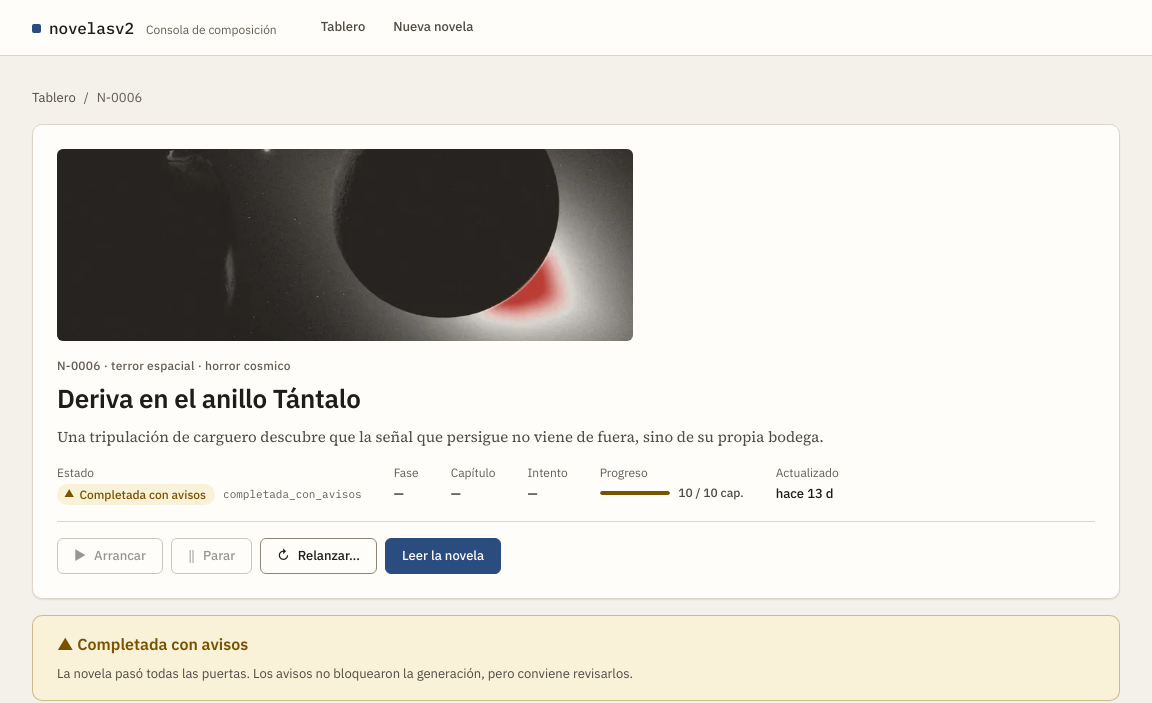
Test case: tablero de una novela (RF-FE-NOV) › relanzar pide desde qué capítulo, dice qué se rehace y encola la intención
Click the button "↻ Relanzar…" at (319, 556), box [260,538,377,574]
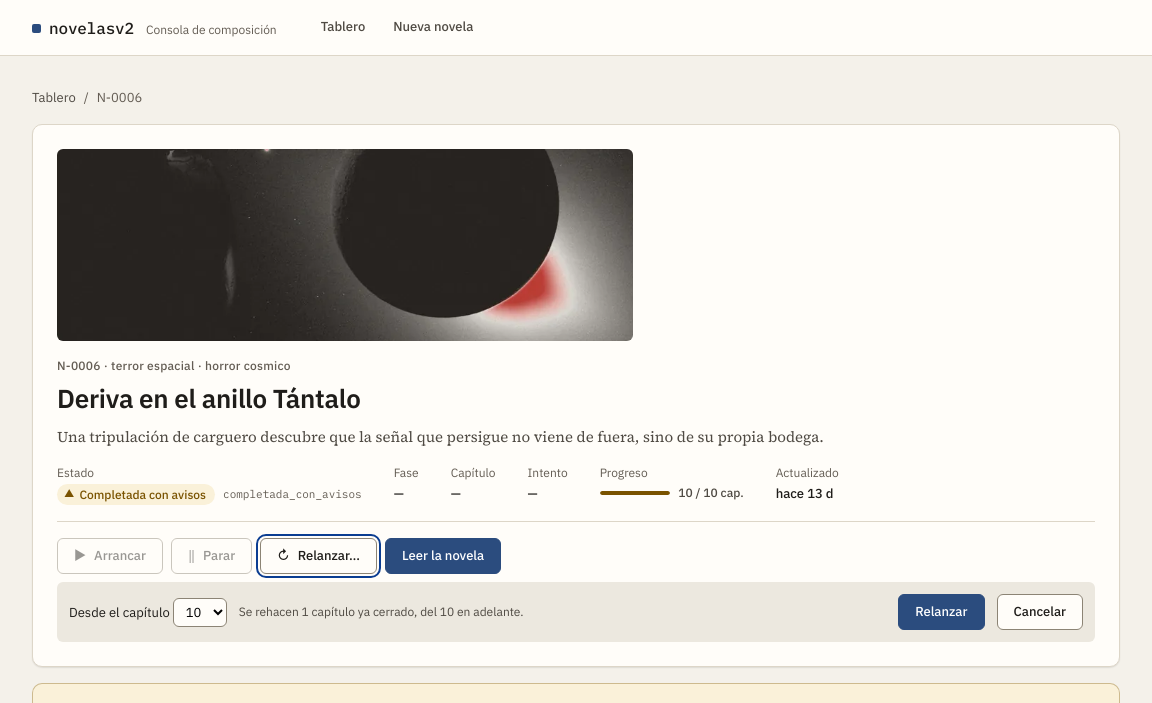
Expected: the 2nd text "—" is shown, [451,485,461,502]
Expected: the dropdown labelled "Desde el capítulo" shows "10"
Select "03" in the dropdown labelled "Desde el capítulo" at (200, 612), box [173,598,227,627]
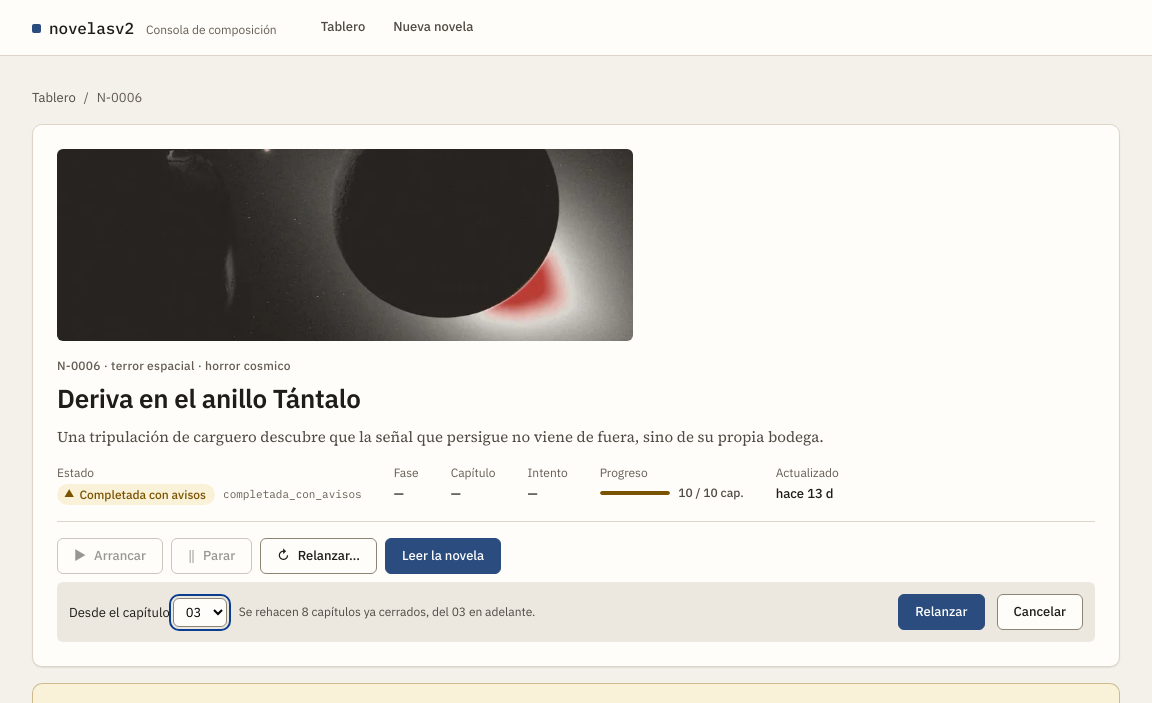
Expected: the text "Se rehacen 8 capítulos ya cerrados, del 03 en adelante." is shown, [239,604,535,619]
Click the button "Relanzar" at (941, 612), box [898,594,984,630]
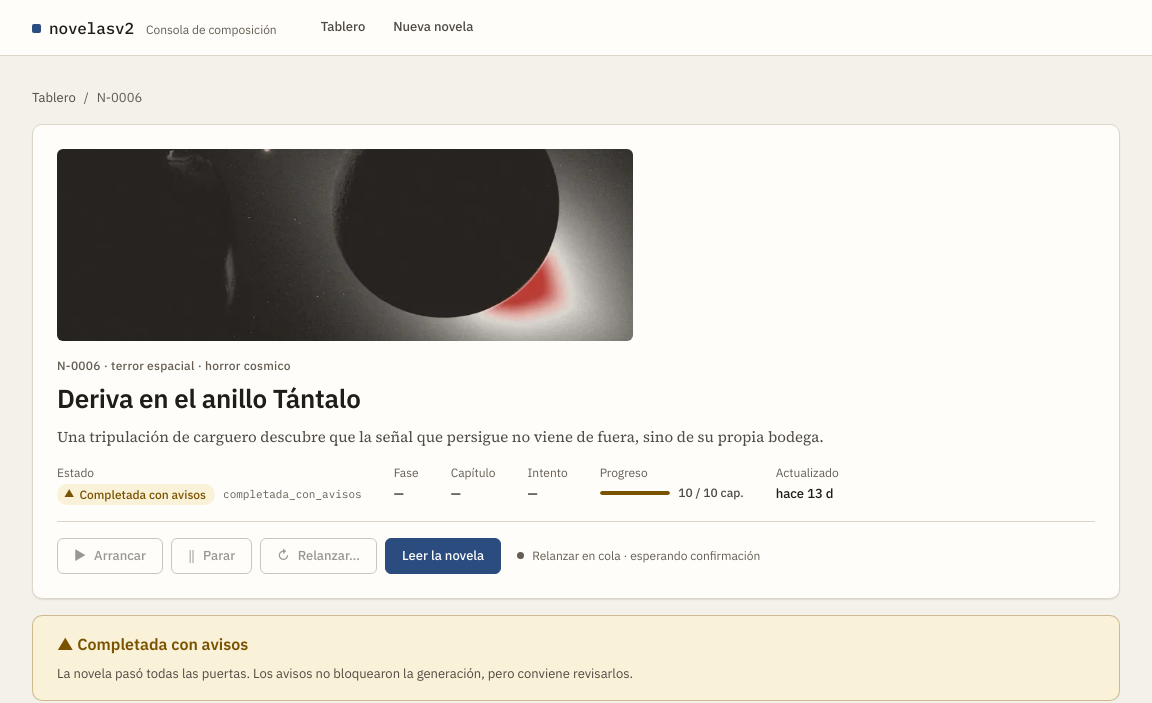
Expected: the text "Relanzar en cola · esperando confirmación" is shown, [517,547,760,565]
